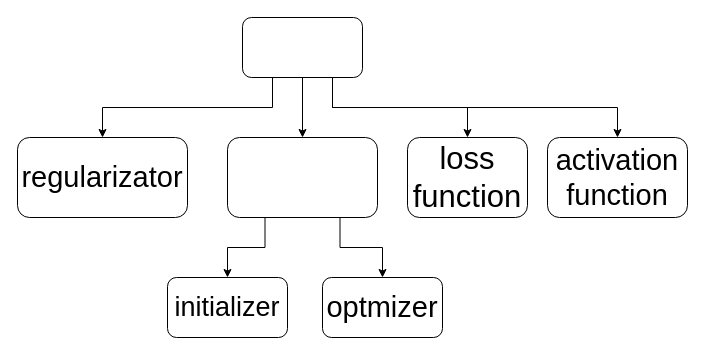
Some shapes in this 705 by 355 pixel diagram are drawn without their labels. The box of each missing label's shape, as (x1, y1, x2, y2) in pixels:
layer: (226, 136, 378, 218)
MLP: (242, 16, 362, 78)
